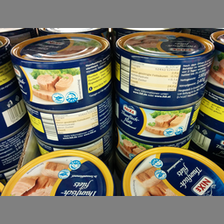fish: (11, 34, 113, 110), (115, 31, 215, 107), (121, 146, 224, 196), (2, 151, 117, 195), (21, 101, 114, 148), (113, 97, 207, 141)
